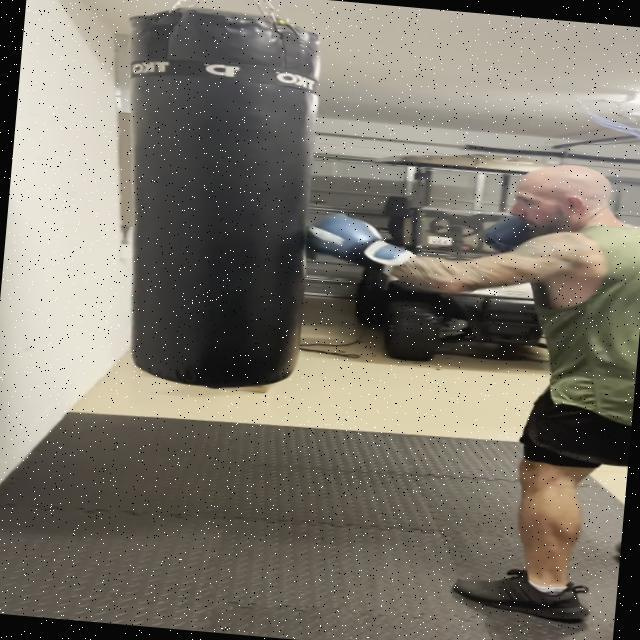bag: (94, 7, 328, 404)
jab: (241, 84, 640, 350)
